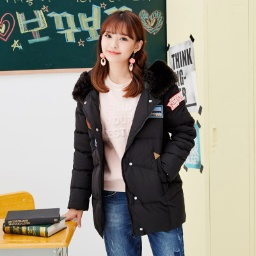face: (96, 12, 150, 76)
